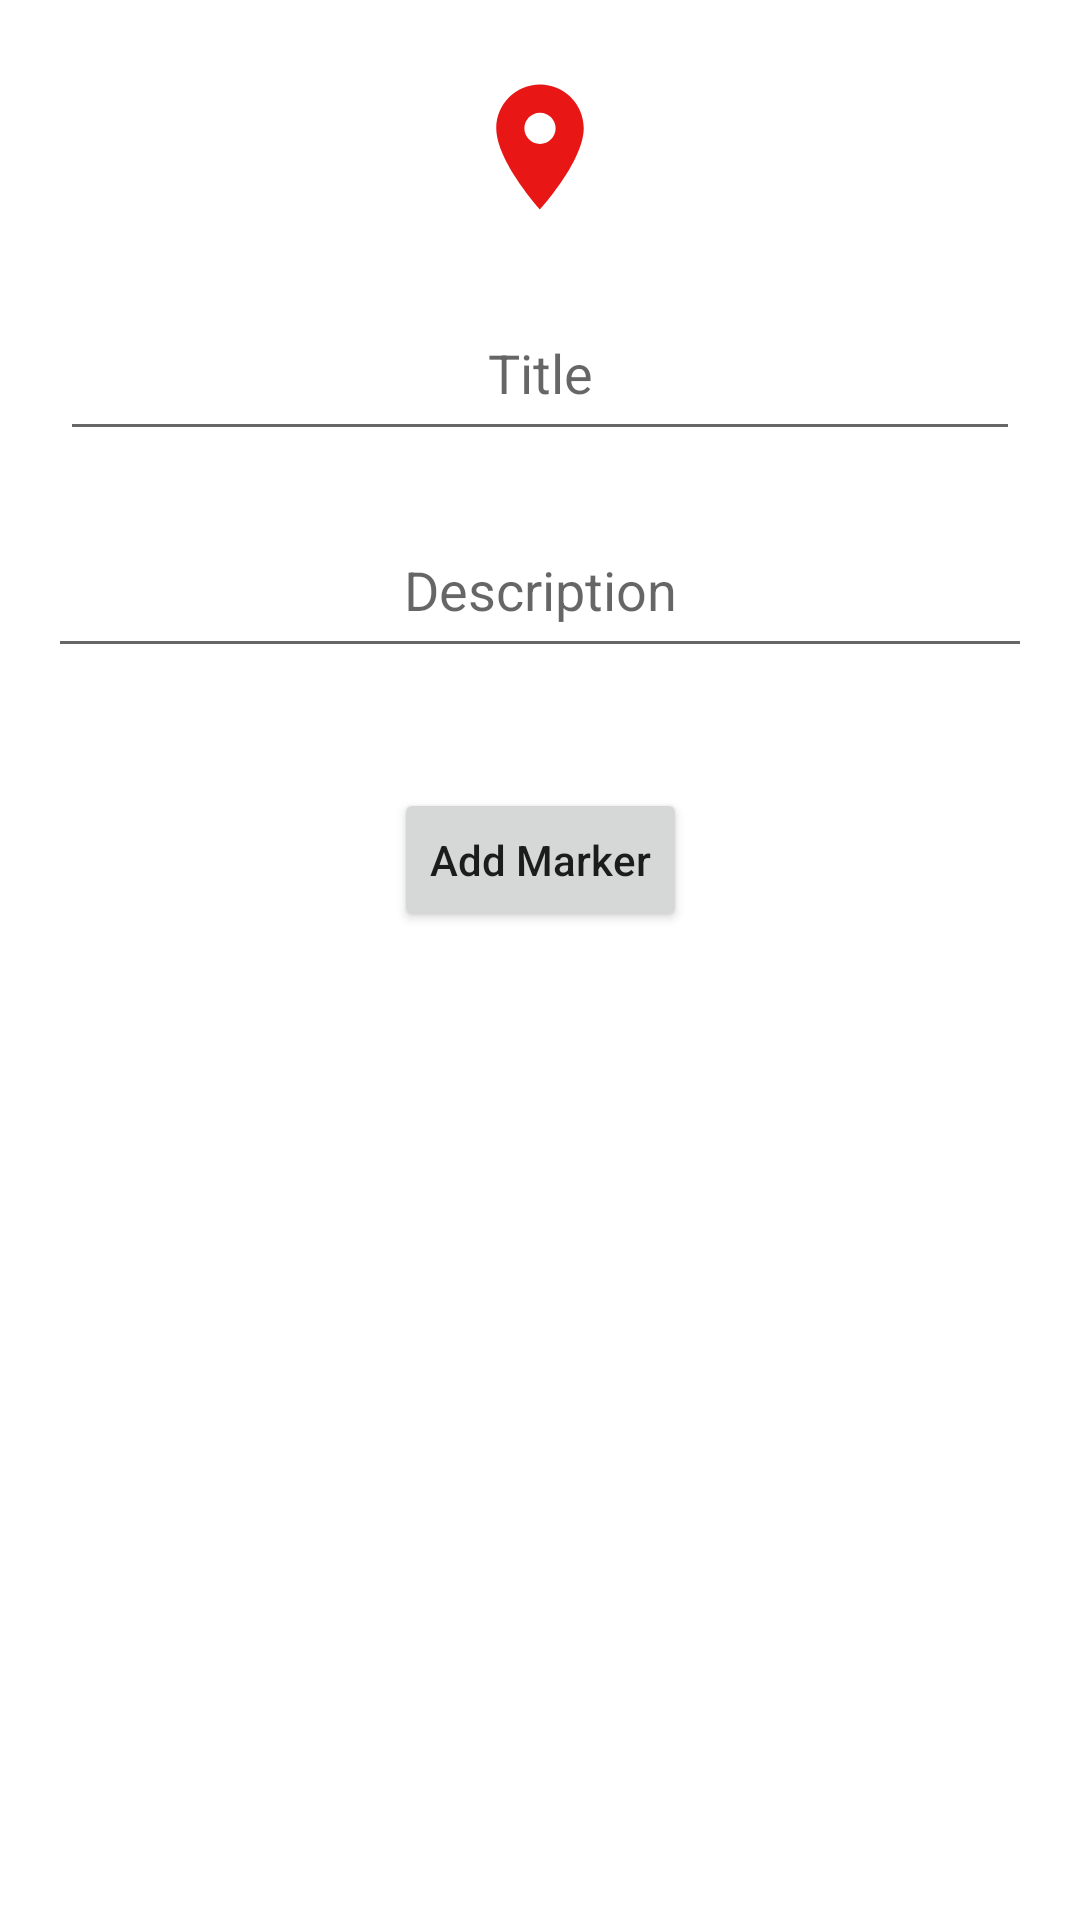

Locate icon controls on the screen. Image size 1080w x 1920h, boxes as region(x1, y1, x2, y2).
marker: region(496, 84, 584, 210)
